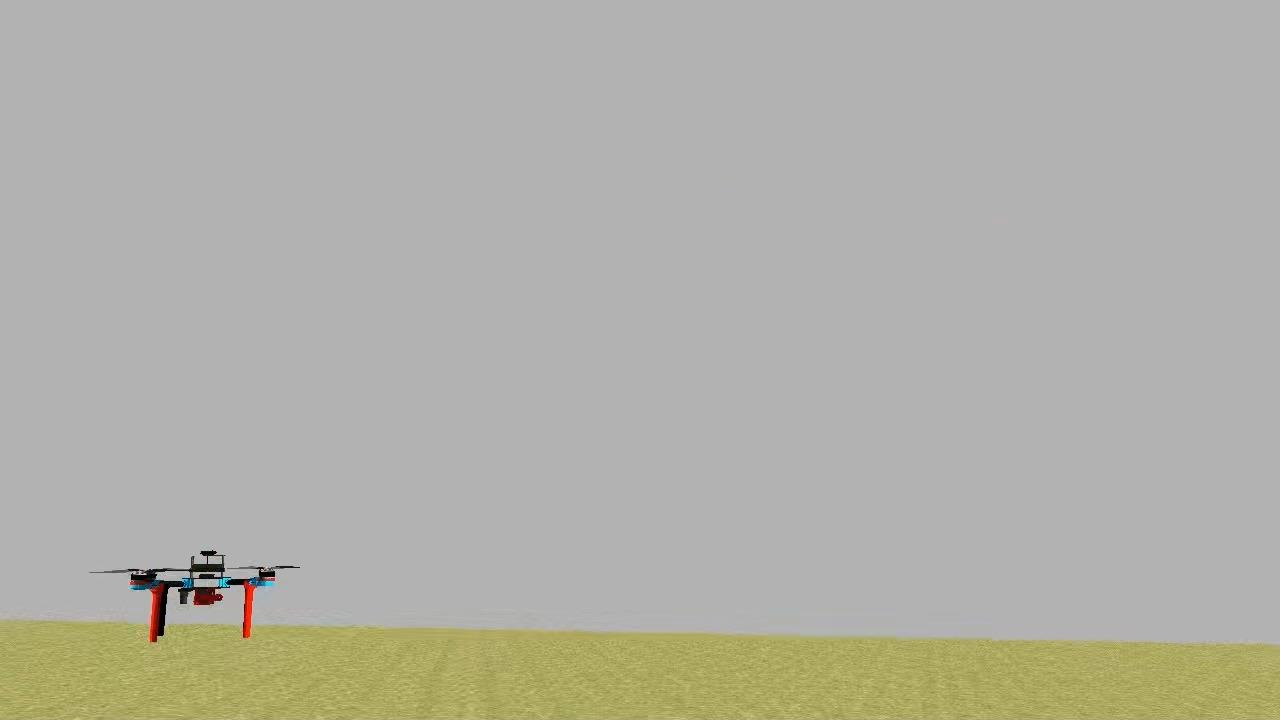UAV: (117, 540, 286, 651)
